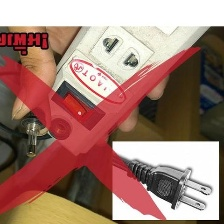three_eye_plug: (29, 0, 224, 164)
